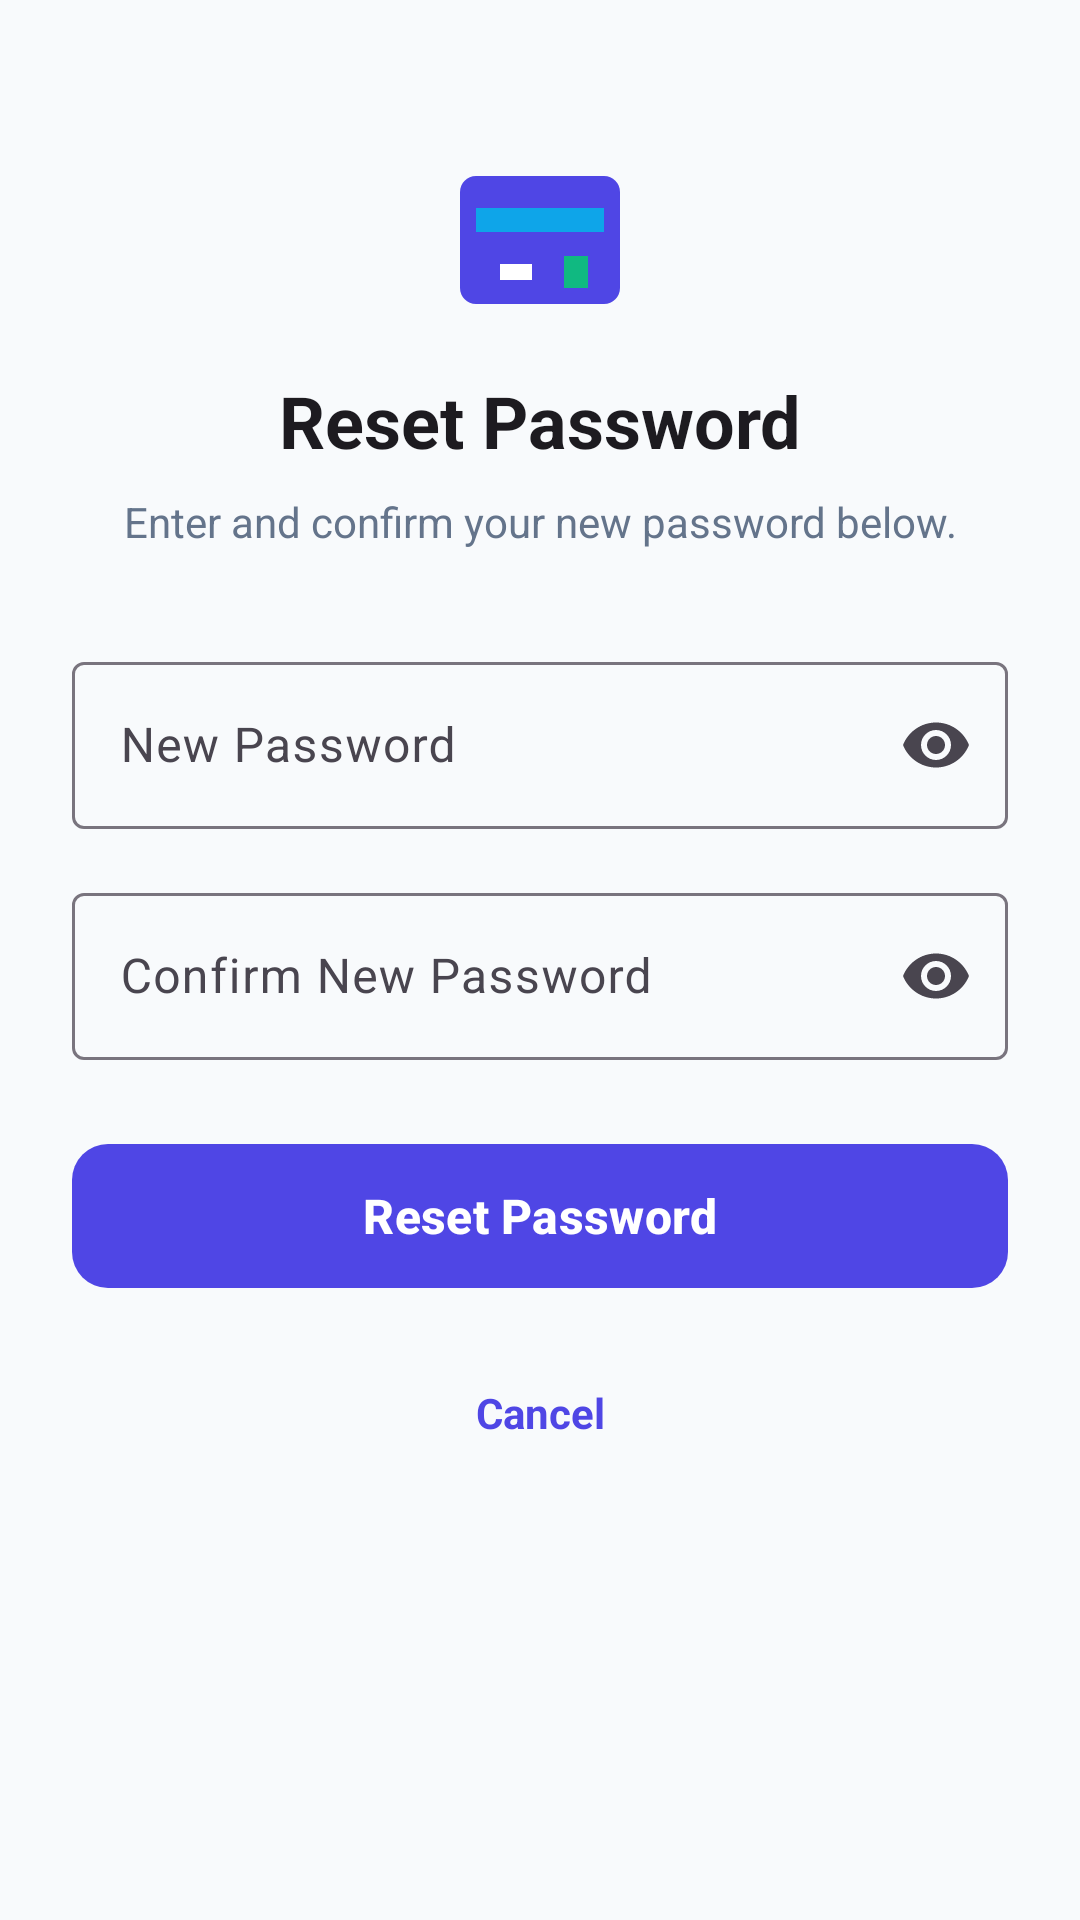

Point at icon controls on the screen. Image size 1080px×1920px, points as [x,y].
Card Vault: [540,240]
